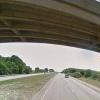Bridge: (2, 2, 94, 56)
